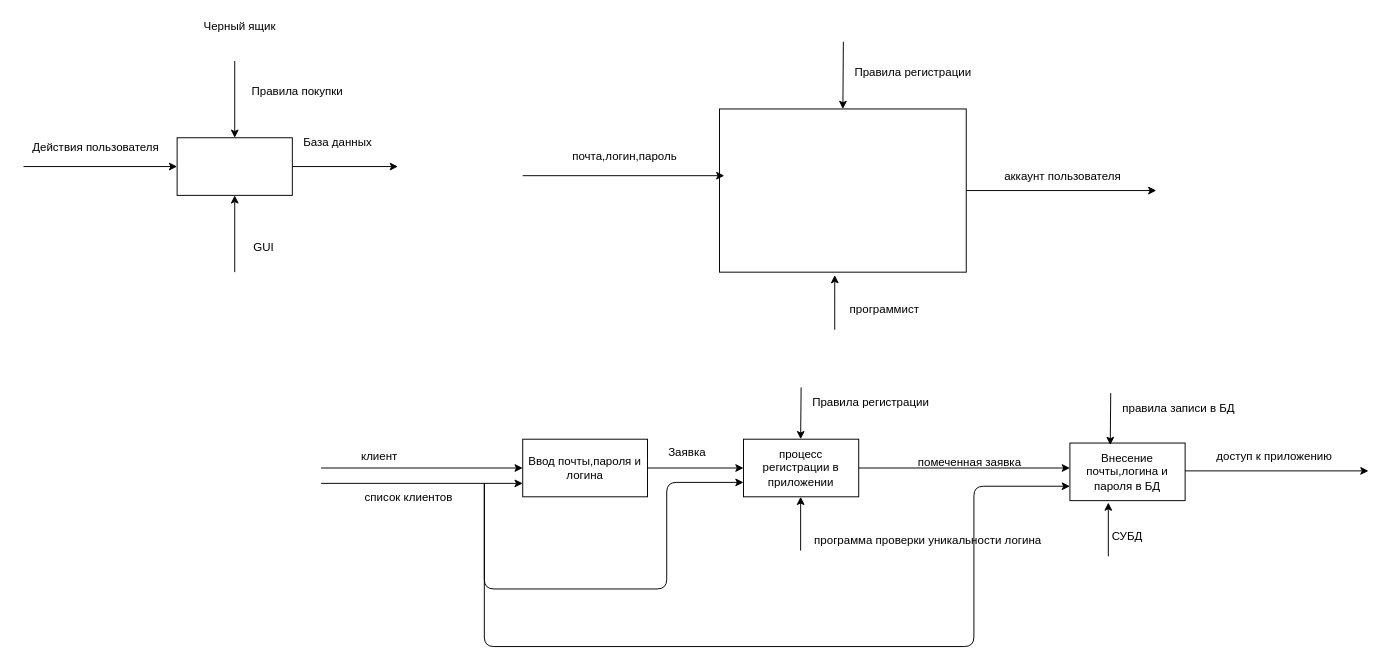
The diagram is 1393 pixels wide and 671 high, and some of its shapes have lost their labels. The centre of each missing label's shape, as x and y in pixels:
Покупка: the point at 234,166
Регистрировать пользователя в приложении: the point at 842,190
